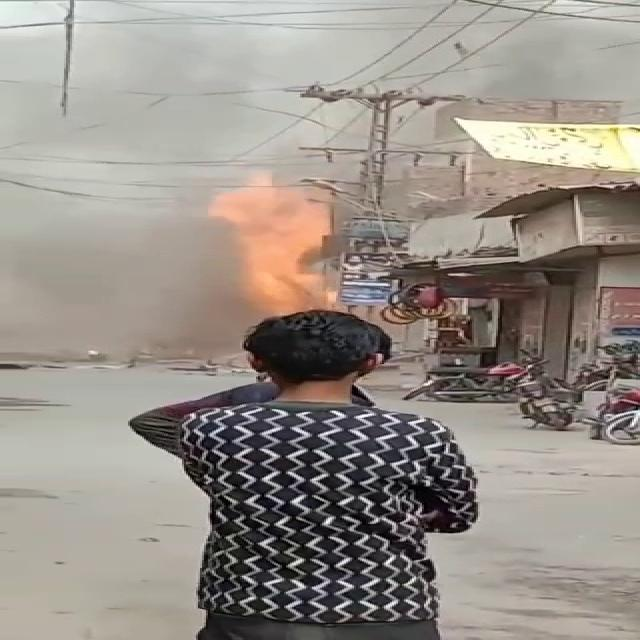Fire: (210, 182, 344, 324)
